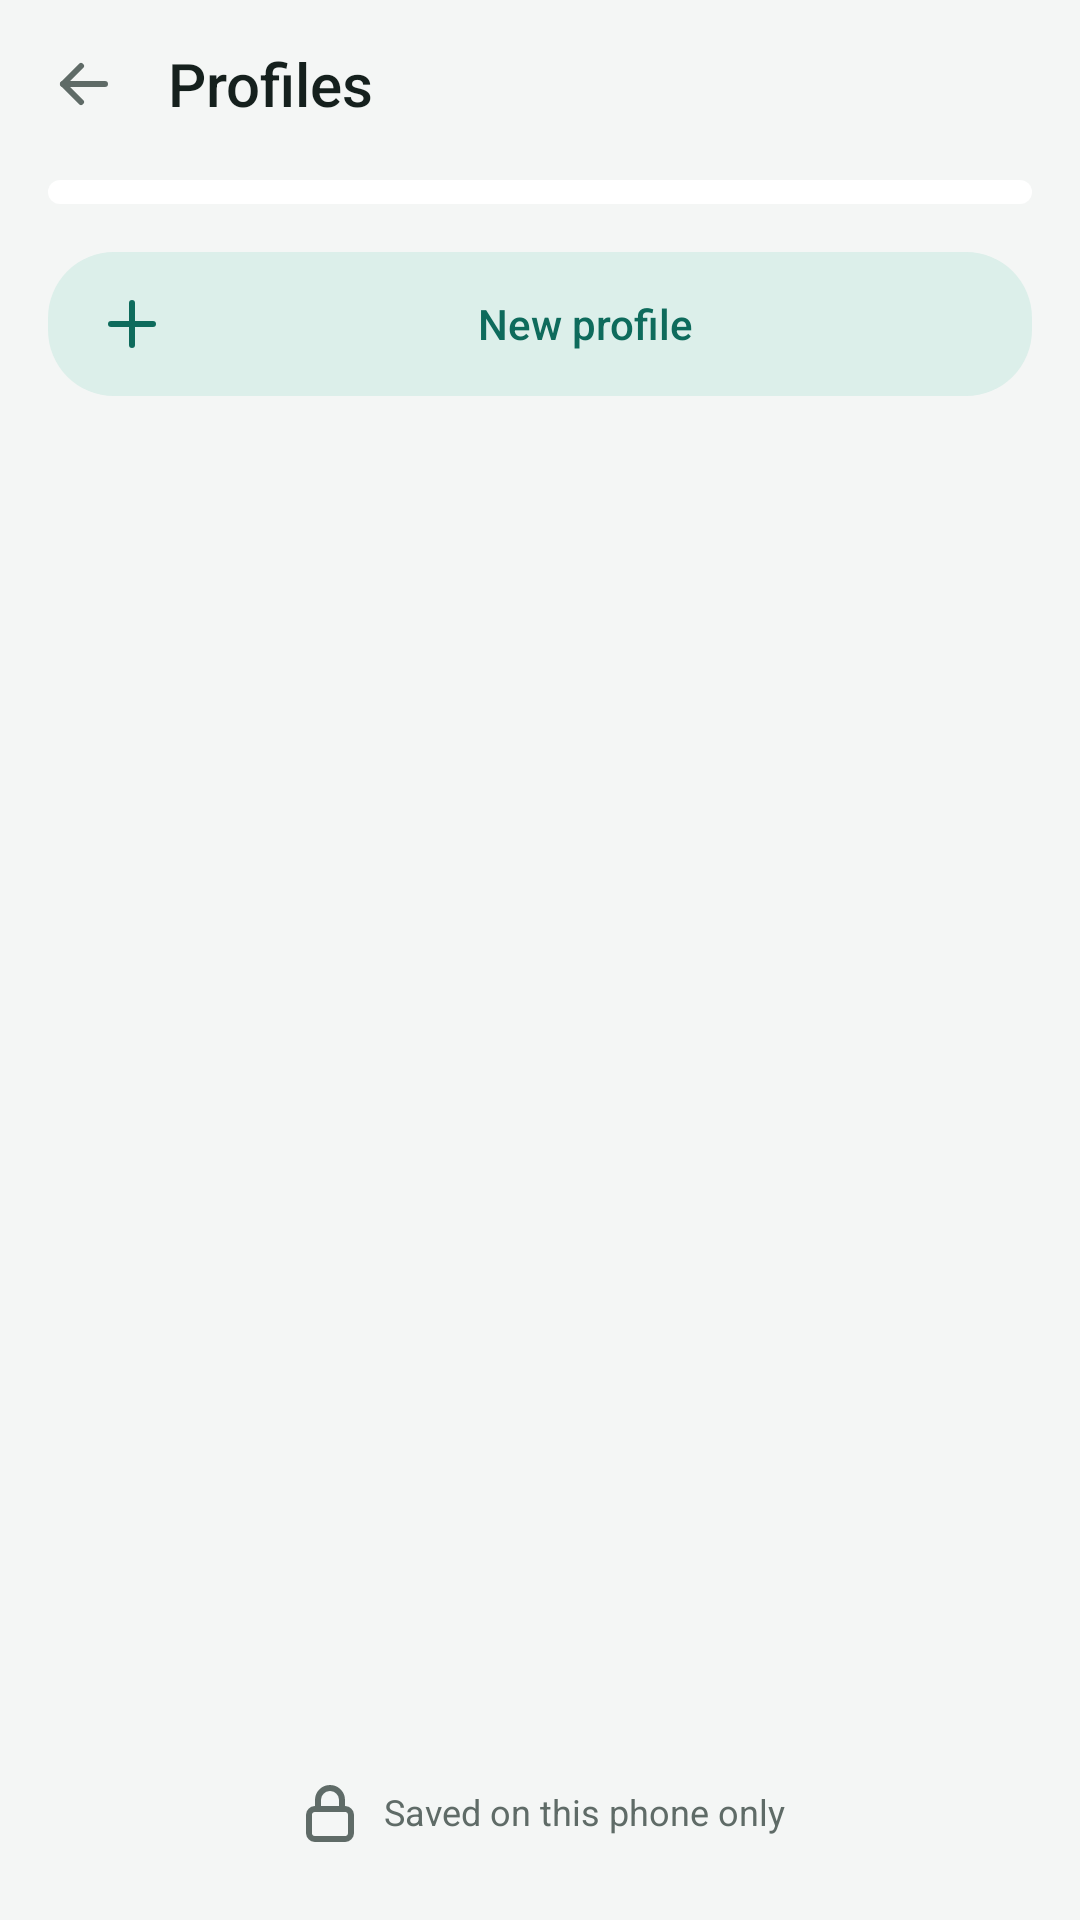

Named icons in this screenshot (1080px x 1920px) and their centers, (x=x, y=y):
Back: (x=84, y=84)
